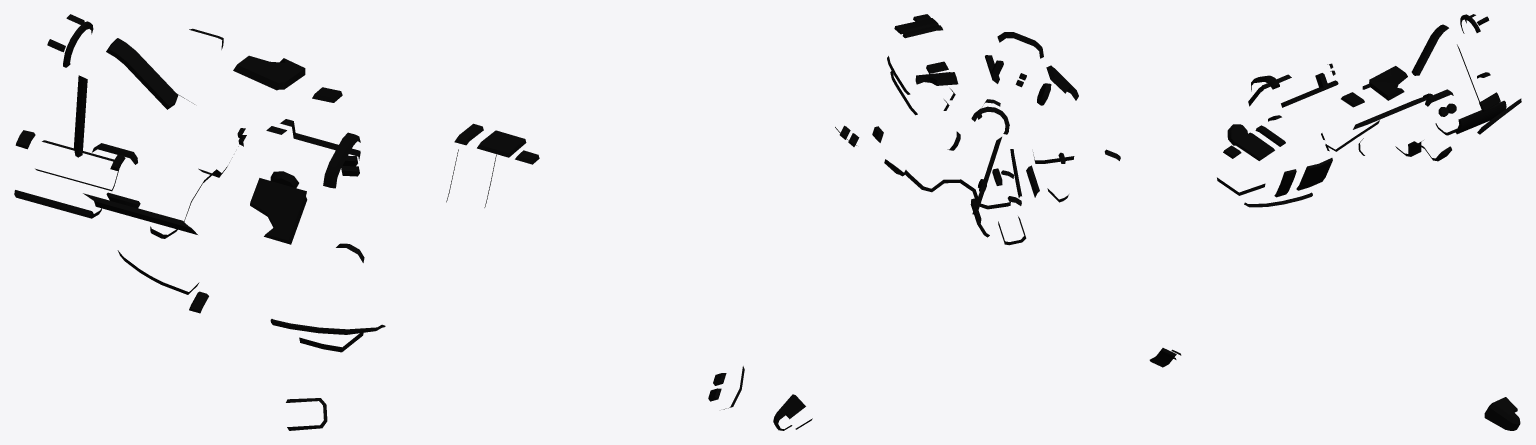
Rendered from prop_static_ama_shipwreck_02_04.glb.
3 renders of one model, left to right at view 1: azimuth 30°, elevation 25°; view 2: azimuth 150°, elevation 25°; view 3: azimuth 270°, elevation 25°, orthographic. The views are drawn at different scales.
Parts seen in each view (by area): view 1: ama_ship_wreck_02_04_LOD0; view 2: ama_ship_wreck_02_04_LOD0; view 3: ama_ship_wreck_02_04_LOD0.
Boxes of the visible parts, <box> form: ama_ship_wreck_02_04_LOD0: <box>14,14,744,430</box>; ama_ship_wreck_02_04_LOD0: <box>773,14,1120,430</box>; ama_ship_wreck_02_04_LOD0: <box>1149,14,1521,430</box>.
Size of what is drawn, in the model's own units: 4.92 by 4.66 by 4.76.
Materials: 2 (2 with a texture image).
